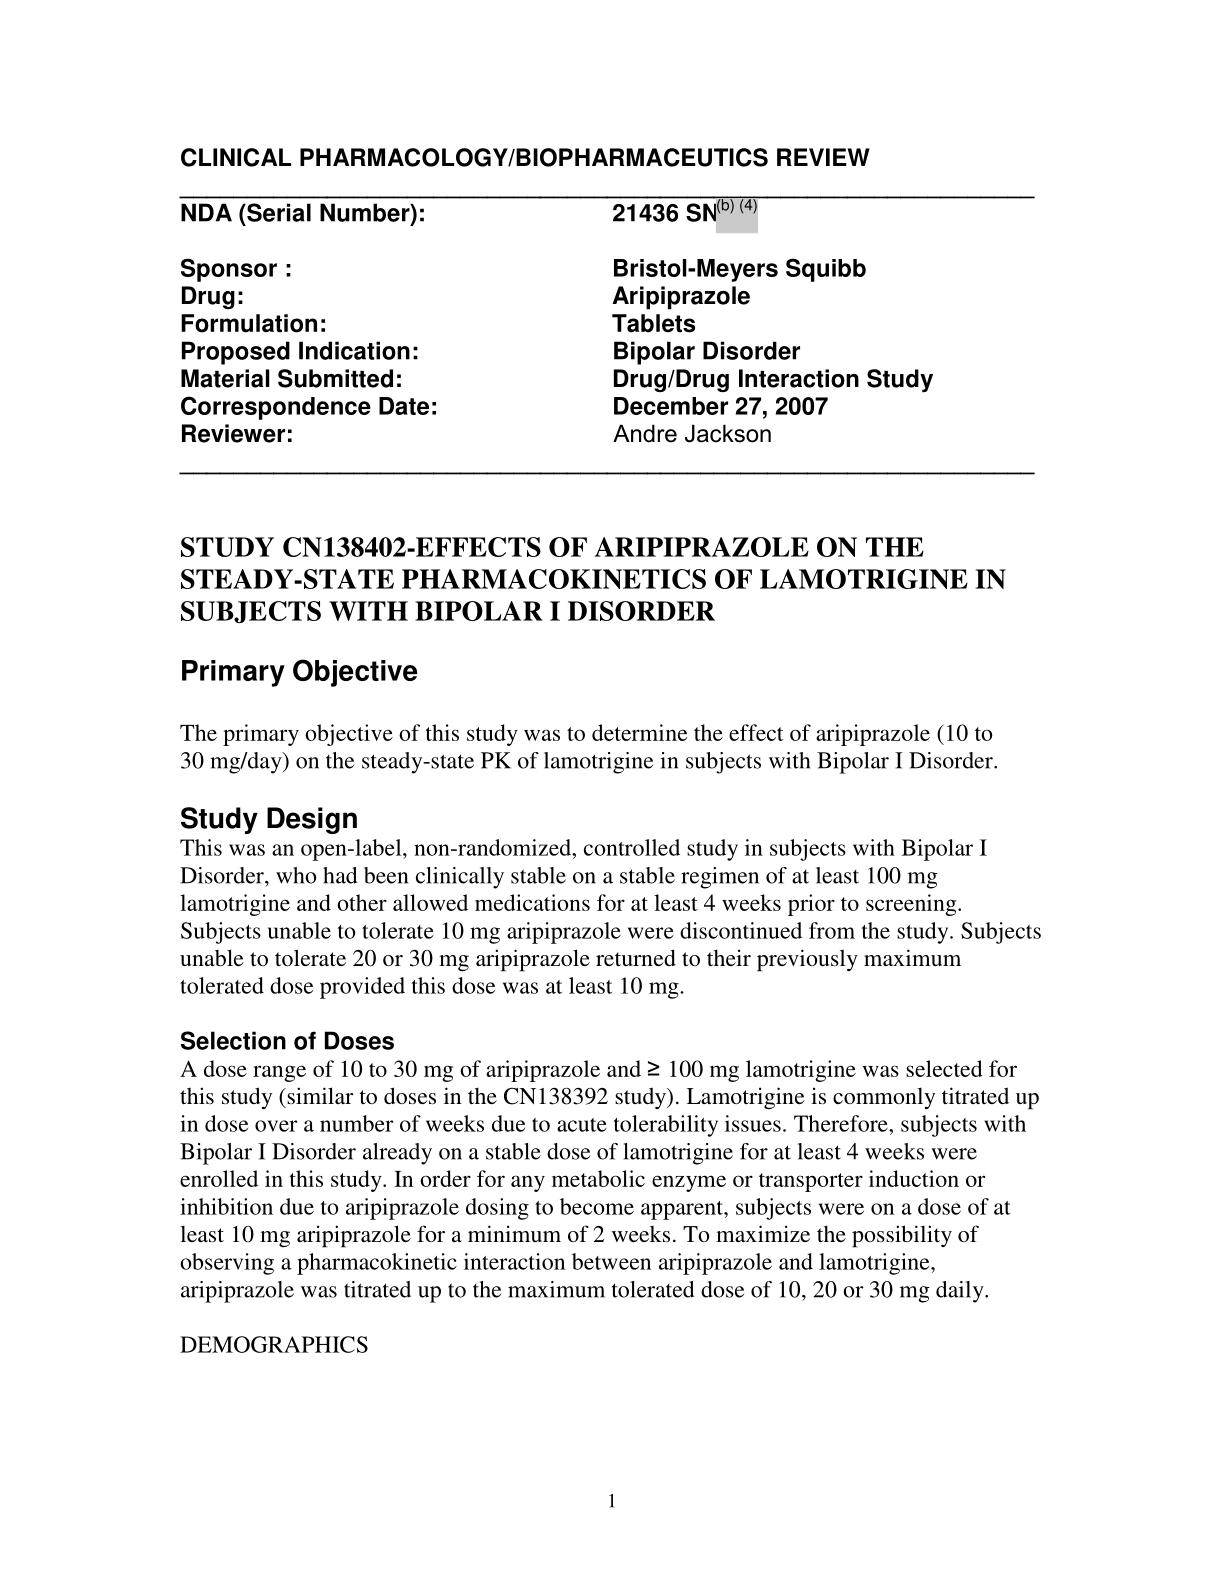partial_lined: (176, 195, 1035, 477)
